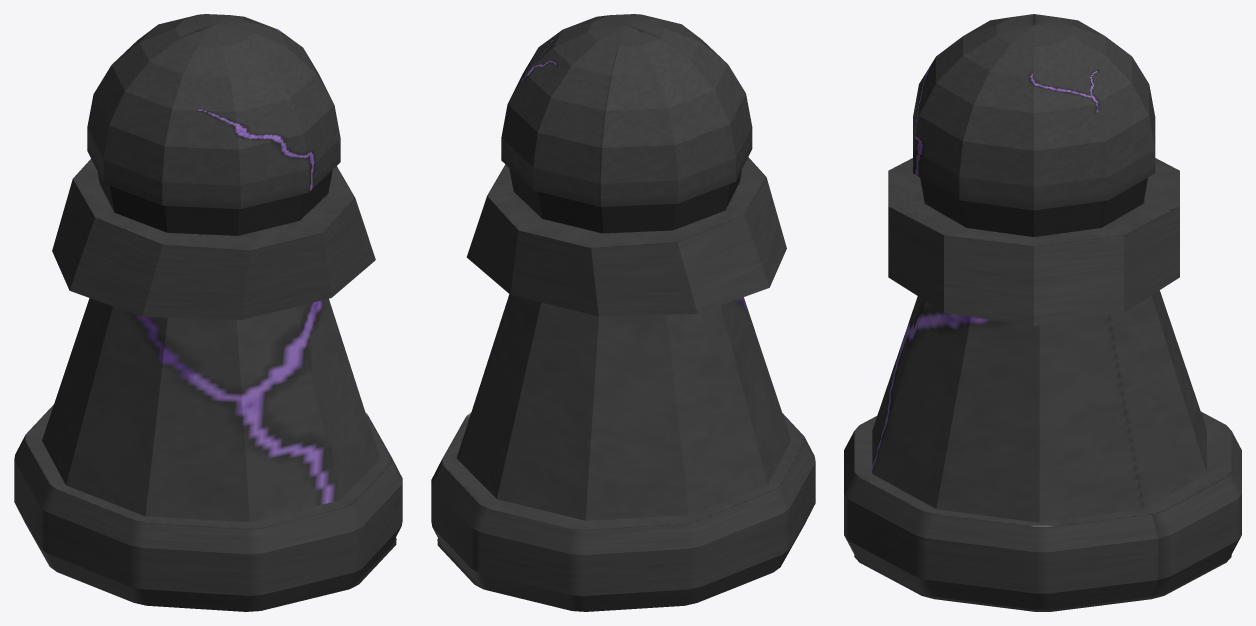
Rendered from PawnBlack.fbx.
3 views of the same model, side by side, from view 1: azimuth 30°, elevation 25°; view 2: azimuth 150°, elevation 25°; view 3: azimuth 270°, elevation 25° (orthographic).
Visible parts, largest first — view 1: polySurface1; view 2: polySurface1; view 3: polySurface1.
Part boxes in pixels (x1,y1,x2,y2): polySurface1: (14, 14, 402, 611); polySurface1: (431, 14, 815, 611); polySurface1: (844, 14, 1241, 611).
Bounding box in the file's own units: 2.98 × 4.41 × 3.13.
